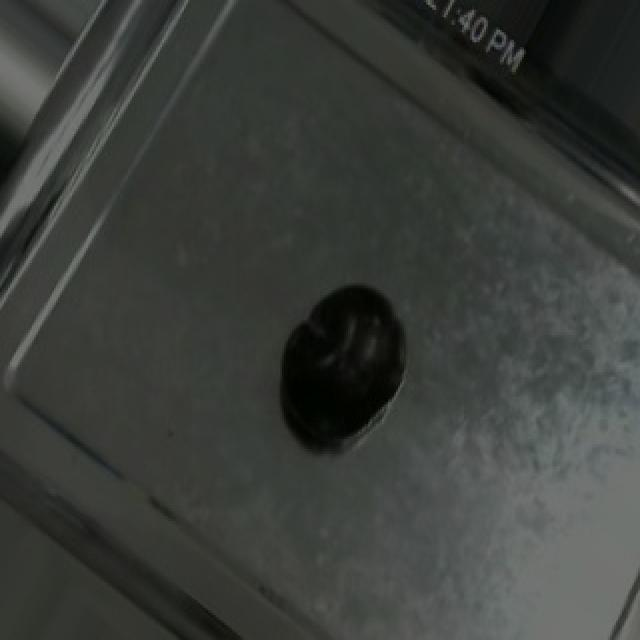Fruit: (262, 265, 418, 454)
